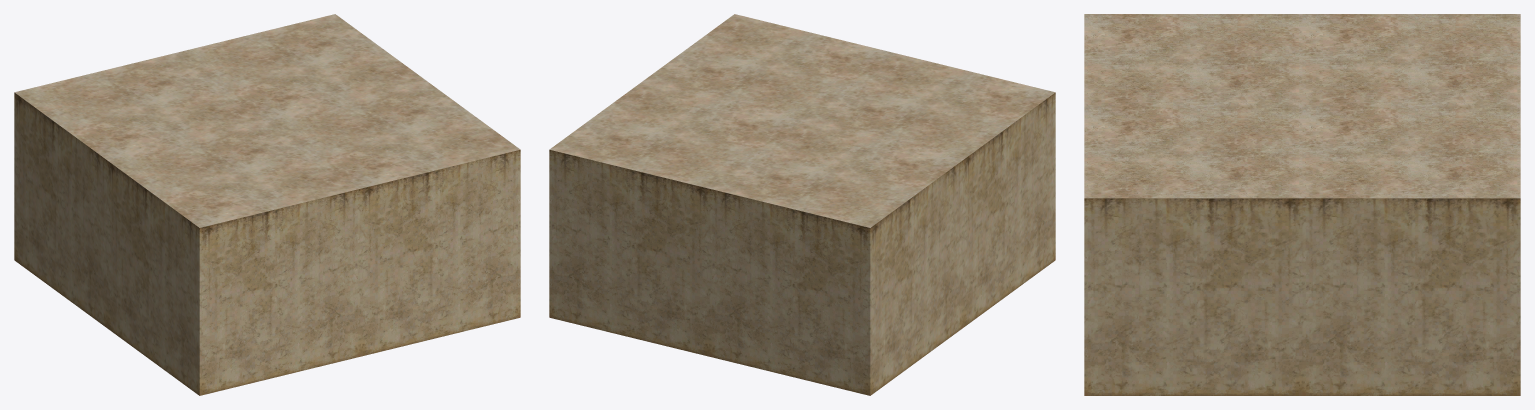
File: thm_tato_concrete_slab_s01_l0.fbx
The picture shows the model from 3 angles, left to right: view 1: azimuth 30°, elevation 25°; view 2: azimuth 150°, elevation 25°; view 3: azimuth 270°, elevation 25°; orthographic projection. The views are drawn at different scales.
Visible parts, largest first — view 1: mesh_node; view 2: mesh_node; view 3: mesh_node.
Boxes of the visible parts, x1,y1,x2,y2 form: mesh_node: (14, 14, 520, 395); mesh_node: (549, 14, 1055, 395); mesh_node: (1084, 14, 1520, 395).
Size of the model in its own units: 16 by 8 by 16.
Materials: 2 (2 with a texture image).
